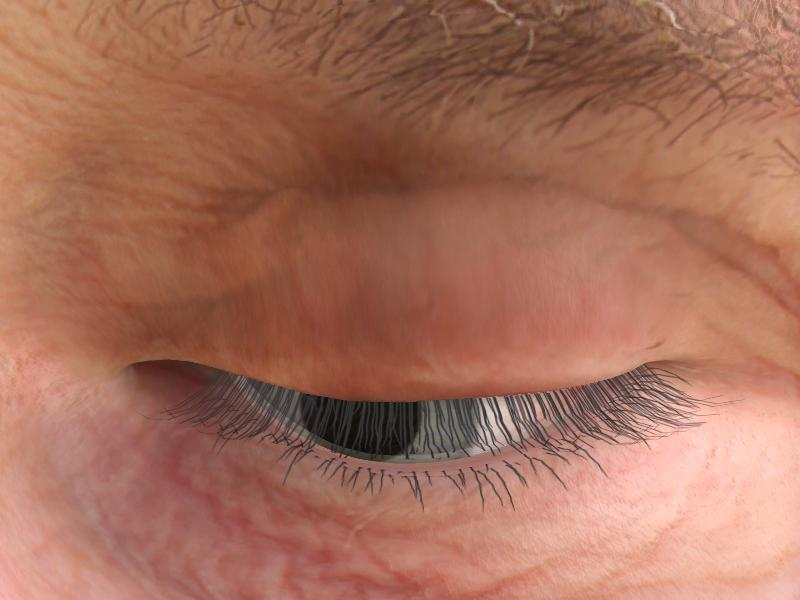eye: (249, 375, 487, 466)
